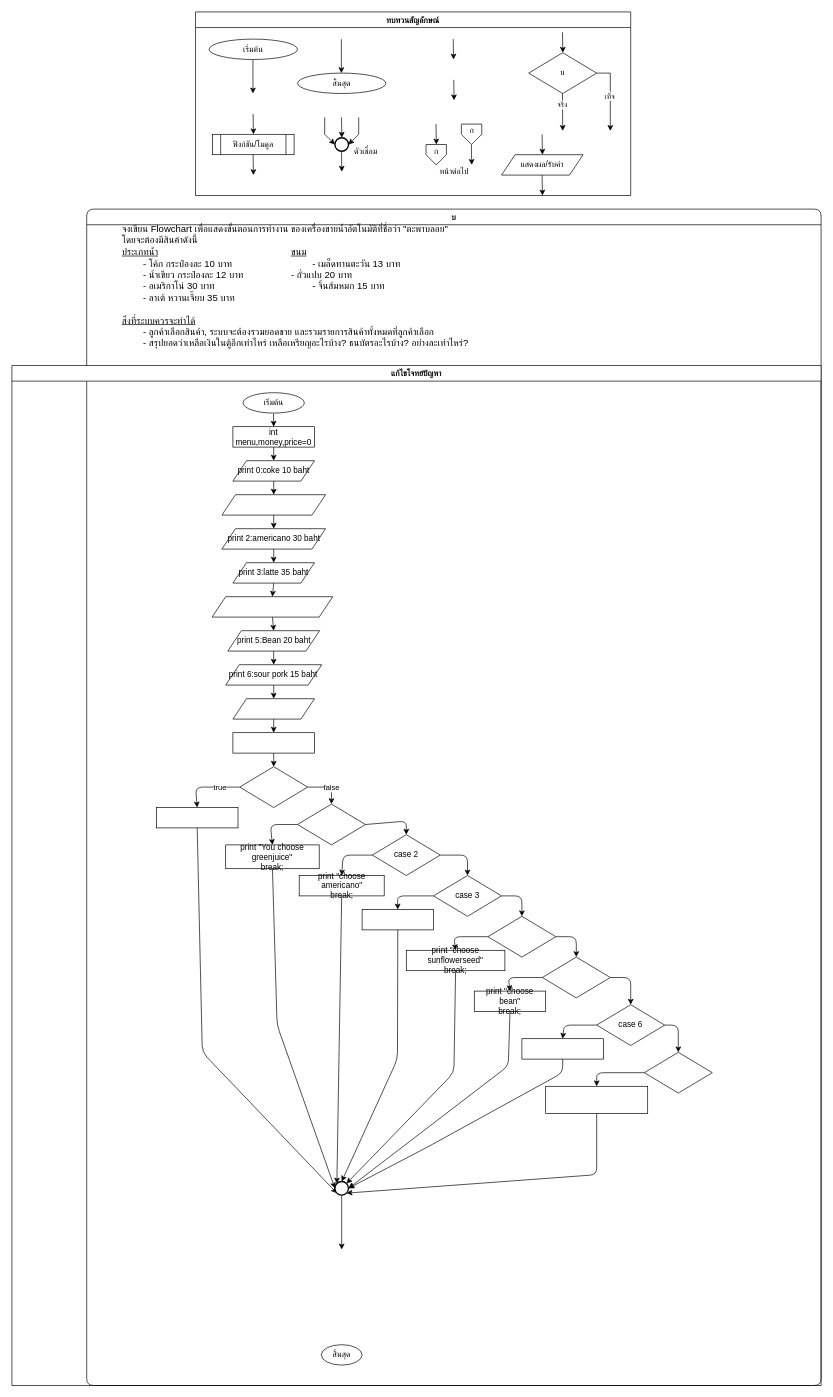
The diagram is 833 pixels wide and 1397 high, and some of its shapes have lost their labels. The shapes that lost their labels are listed below. From the top down, each one's centre as x and y in pixels, then its label:
point (273, 504): print 1:greenjuice 12 baht
point (272, 606): print 4:Sunflower seed 13 baht
point (273, 708): input value:menu
point (273, 742): switch(menu)
point (273, 787): case 0
point (197, 817): print "You choose coke" break;
point (331, 824): case 1
point (397, 919): print "choose latte" break;
point (521, 936): case 4
point (576, 977): case 5
point (562, 1048): print "choose sour pork" break;
point (678, 1072): default
point (596, 1100): print "choose number 0-6 only" break;
